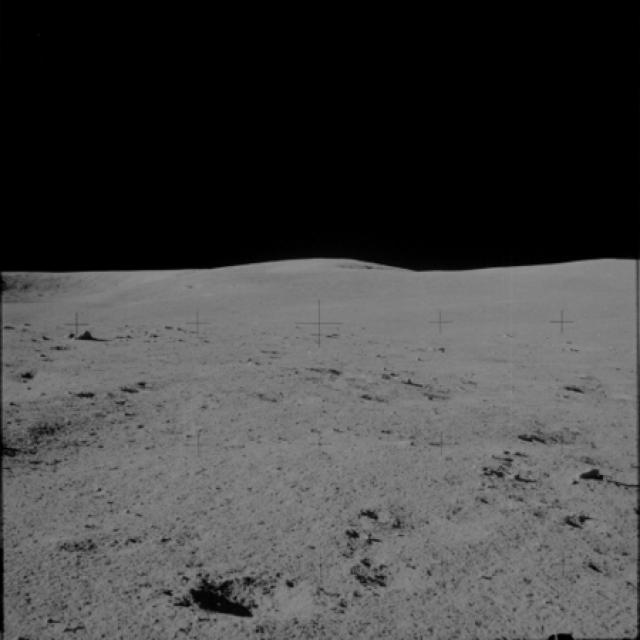crater: (174, 559, 333, 632), (340, 546, 413, 595), (516, 418, 602, 452), (346, 497, 399, 529), (18, 362, 58, 391), (334, 520, 367, 543), (552, 381, 600, 396)
rock: (574, 459, 606, 492), (69, 326, 98, 346)
